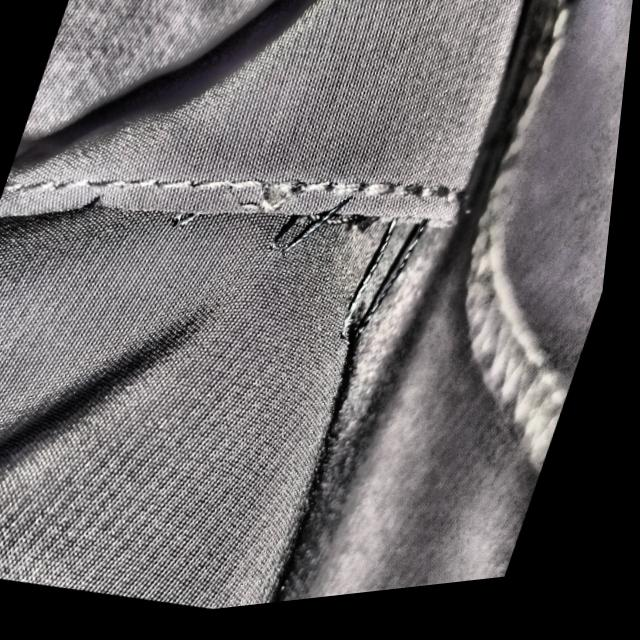Stitch: (199, 162, 469, 389)
